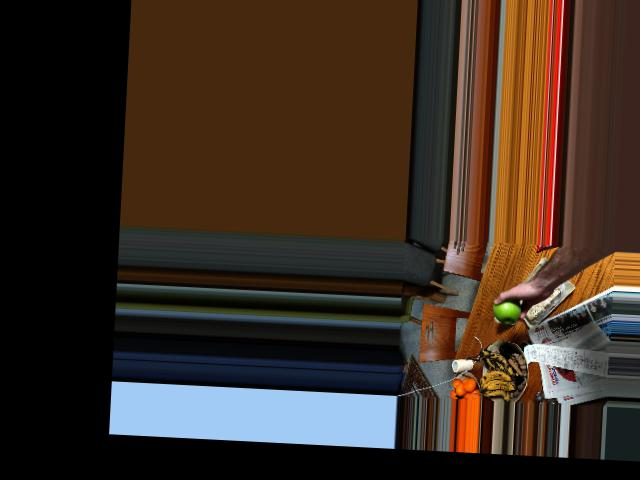apple: (489, 292, 525, 325)
